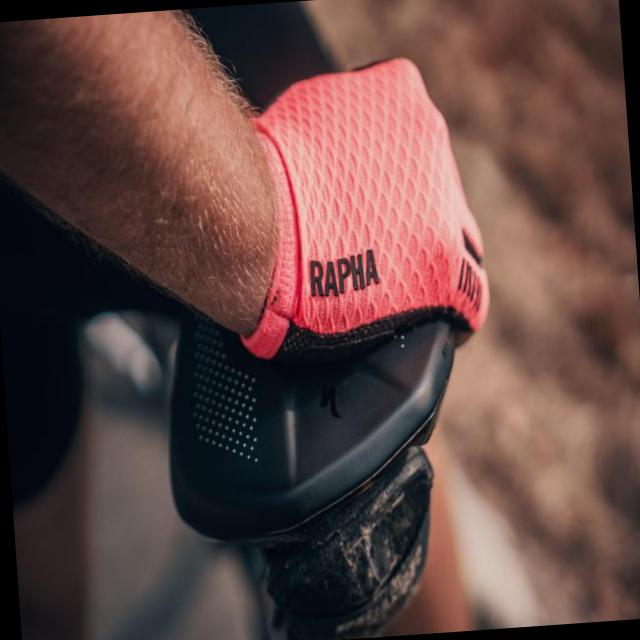Gloves: (248, 27, 520, 420)
